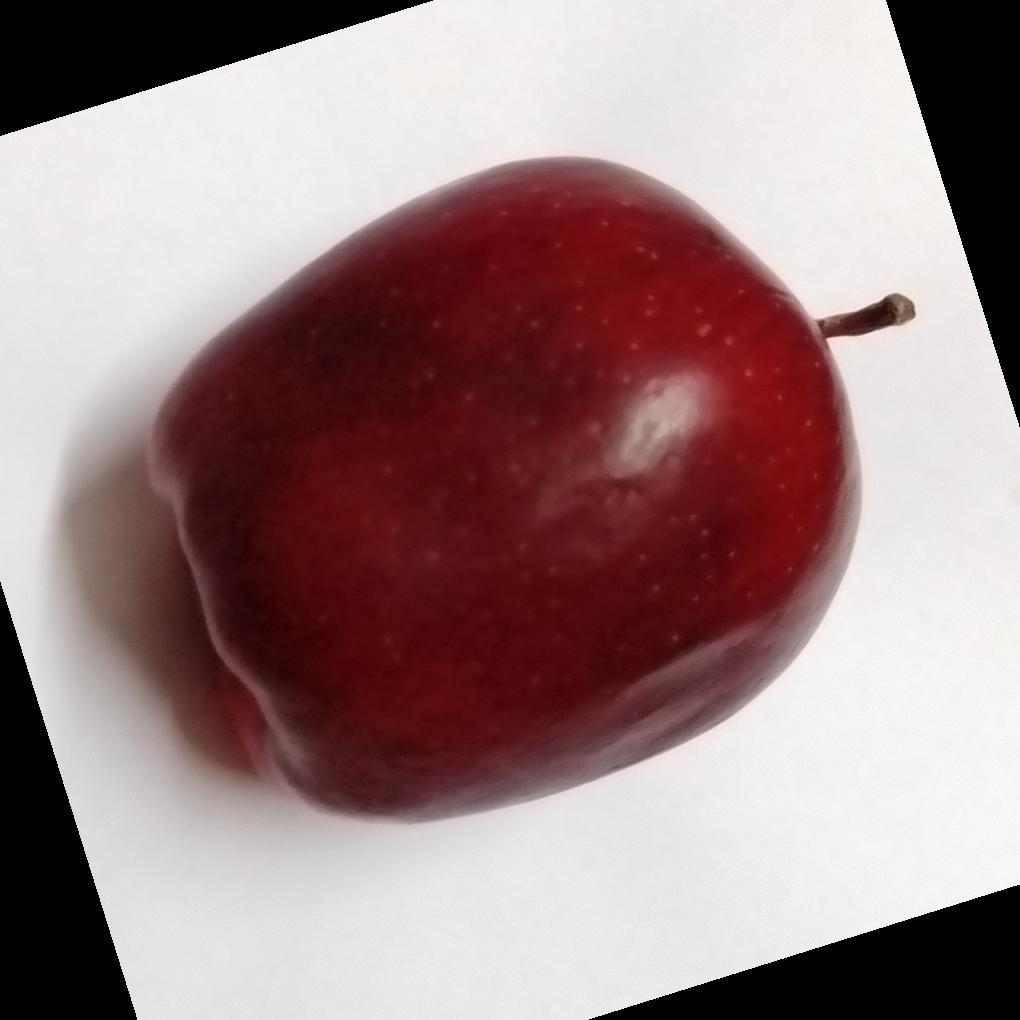FreshOrange: (145, 158, 861, 827)
